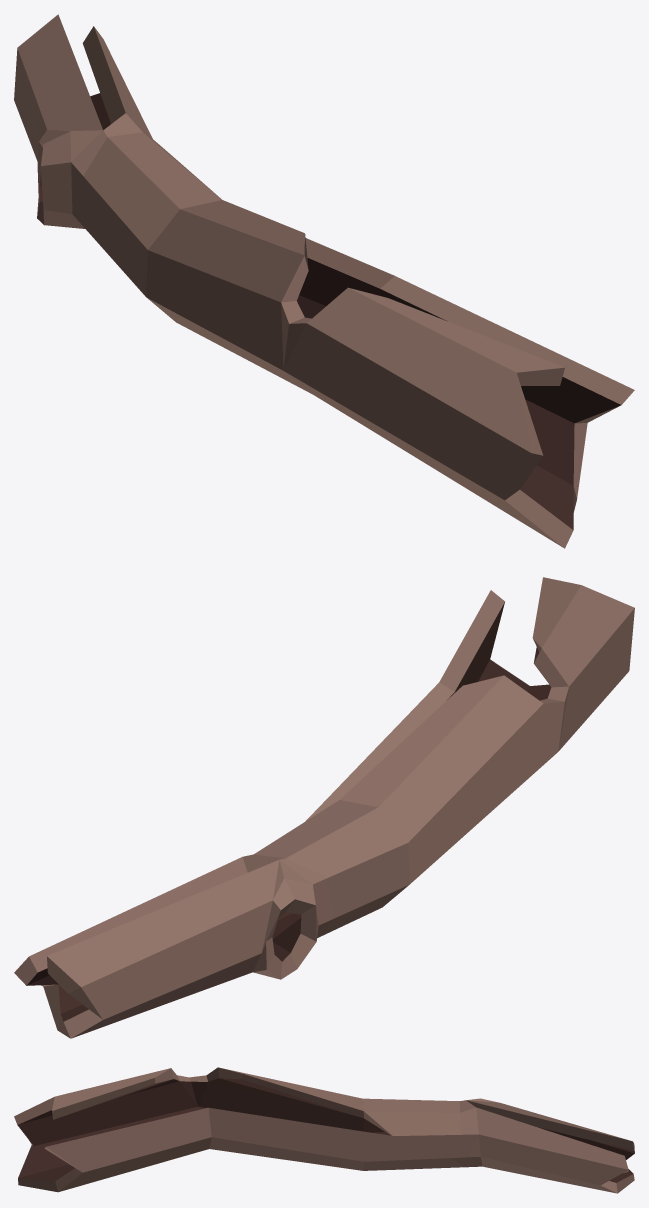
The model's file is tree_old_log_1.fbx.
The picture shows the model from 3 angles, top to bottom: view 1: azimuth 30°, elevation 25°; view 2: azimuth 150°, elevation 25°; view 3: azimuth 270°, elevation 25°; orthographic projection. The views are drawn at different scales.
Visible parts, largest first — view 1: Tree_Old_Log_1; view 2: Tree_Old_Log_1; view 3: Tree_Old_Log_1.
Part boxes in pixels (x1=…): Tree_Old_Log_1: x1=14, y1=14, x2=634, y2=548; Tree_Old_Log_1: x1=14, y1=577, x2=634, y2=1038; Tree_Old_Log_1: x1=14, y1=1067, x2=634, y2=1193.
Bounding box in the file's own units: 119 × 93.52 × 541.
